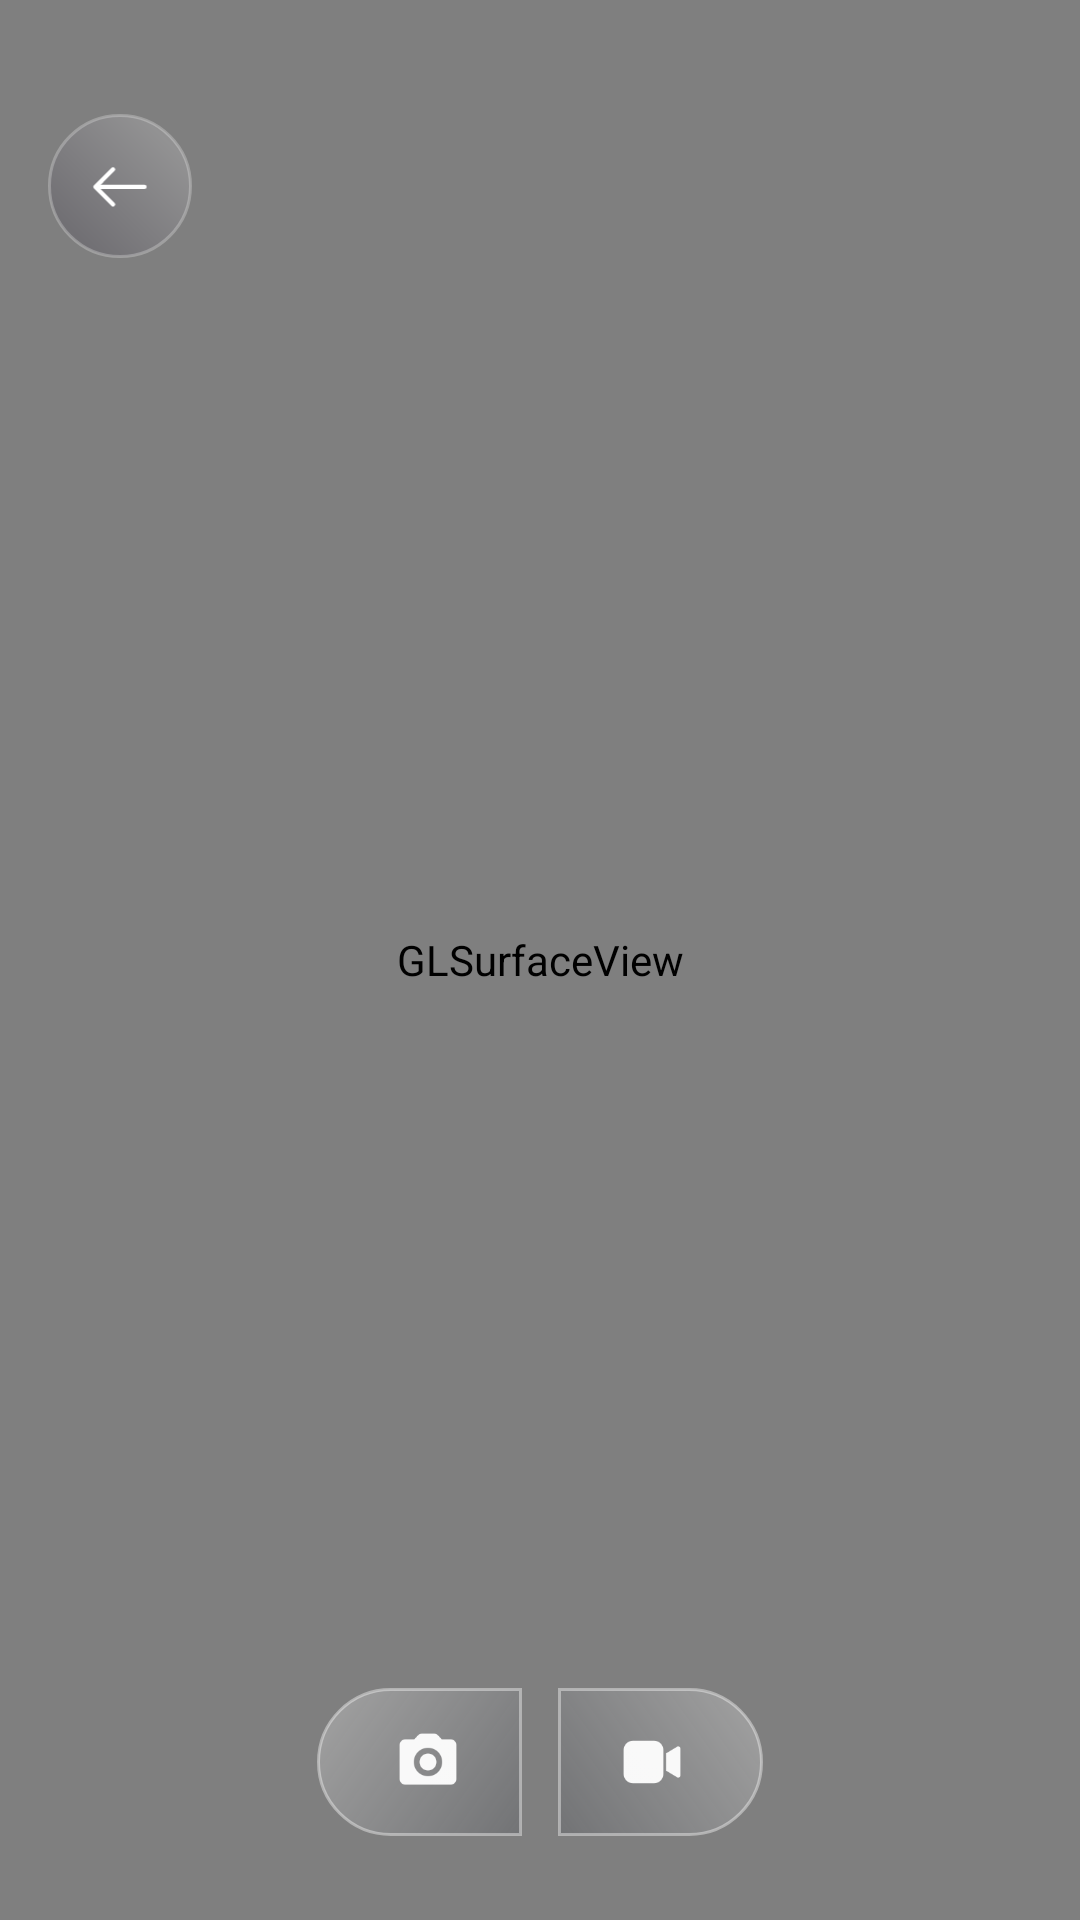

Icons on this 1080 x 1920 Android screen, each with the point to tap as [x,y]:
camera: [428,1759]
video: [652,1761]
